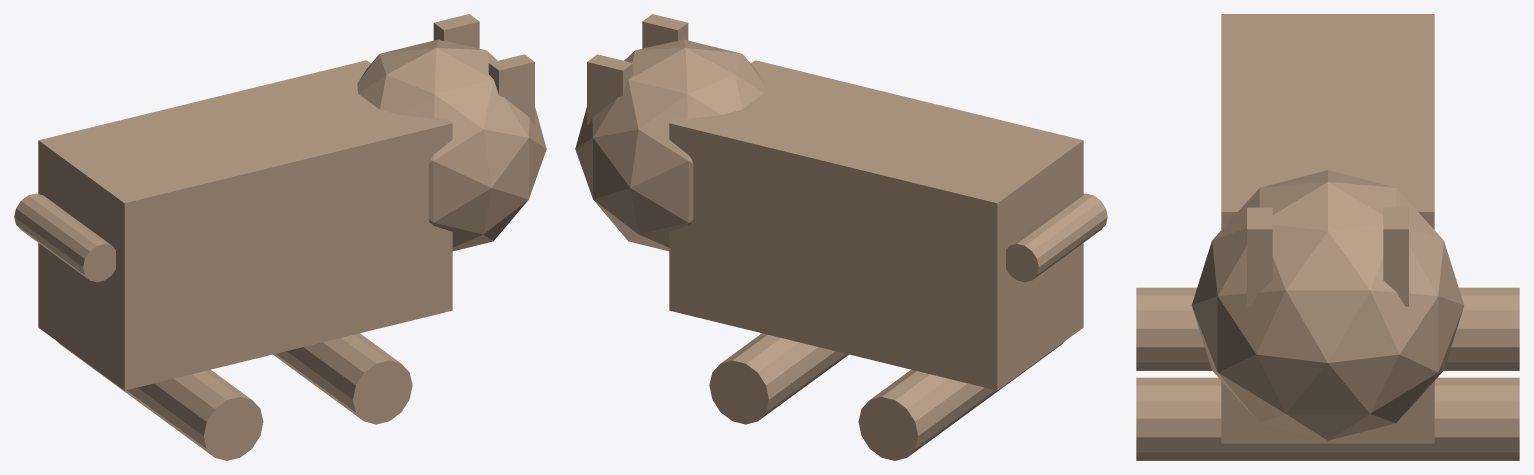
Rendered from pet_dog.glb.
3 views of the same model, side by side, from view 1: azimuth 30°, elevation 25°; view 2: azimuth 150°, elevation 25°; view 3: azimuth 270°, elevation 25° (orthographic). The views are drawn at different scales.
Parts seen in each view (by area): view 1: p000, p001, p002, p003, p006, p007, p008; view 2: p000, p001, p005, p004, p006, p008, p007; view 3: p001, p000, p003, p005, p002, p004, p007, p008.
Boxes of the visible parts, x1=… form: p000: x1=38, y1=60, x2=452, y2=390; p001: x1=357, y1=39, x2=546, y2=251; p002: x1=125, y1=369, x2=263, y2=460; p003: x1=276, y1=333, x2=412, y2=424; p006: x1=14, y1=193, x2=115, y2=282; p007: x1=488, y1=54, x2=534, y2=124; p008: x1=433, y1=14, x2=479, y2=48; p000: x1=669, y1=60, x2=1083, y2=390; p001: x1=575, y1=39, x2=764, y2=251; p005: x1=709, y1=333, x2=845, y2=424; p004: x1=858, y1=369, x2=992, y2=460; p006: x1=1006, y1=193, x2=1107, y2=282; p008: x1=587, y1=54, x2=633, y2=124; p007: x1=642, y1=14, x2=688, y2=48; p001: x1=1191, y1=170, x2=1464, y2=440; p000: x1=1221, y1=14, x2=1434, y2=443; p003: x1=1136, y1=377, x2=1349, y2=460; p005: x1=1306, y1=377, x2=1519, y2=460; p002: x1=1136, y1=287, x2=1211, y2=370; p004: x1=1444, y1=287, x2=1519, y2=370; p007: x1=1247, y1=207, x2=1272, y2=306; p008: x1=1383, y1=207, x2=1408, y2=306.
Size of the model in its own units: 0.81 by 0.4587 by 0.45.
